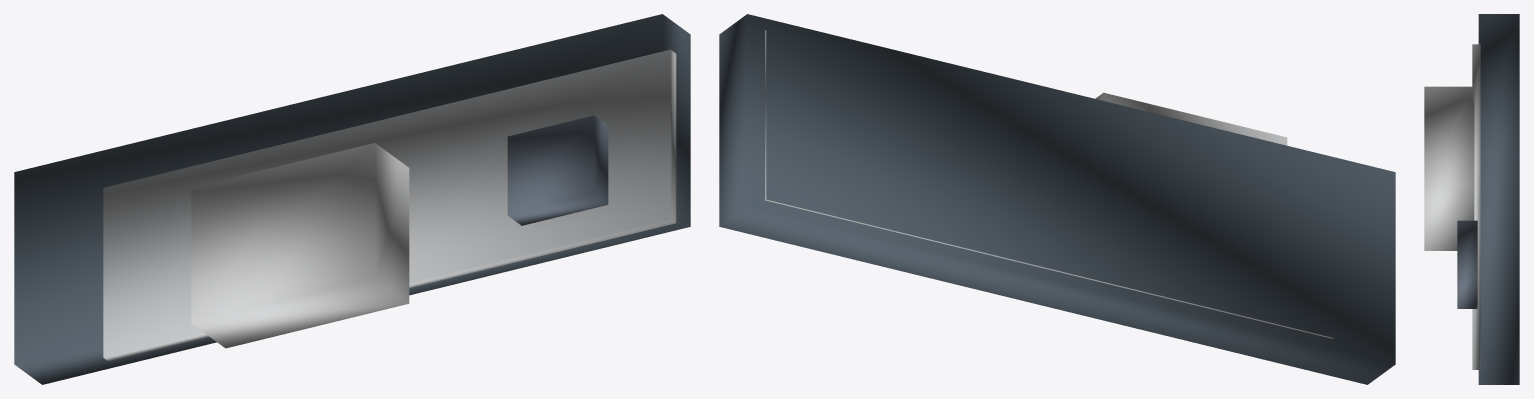
The model's file is usv.glb.
3 views of the same model, side by side, from view 1: azimuth 30°, elevation 25°; view 2: azimuth 150°, elevation 25°; view 3: azimuth 270°, elevation 25° (orthographic). The views are drawn at different scales.
Visible parts, largest first — view 1: USV; view 2: USV; view 3: USV.
Boxes of the visible parts, left/top/right/bottom form: USV: left=14, top=14, right=690, bottom=384; USV: left=719, top=14, right=1395, bottom=384; USV: left=1424, top=14, right=1519, bottom=384.
Size of the model in its own units: 12 by 3.4 by 2.1.
